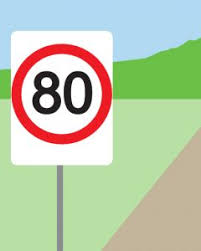sp80: (11, 49, 113, 142)
